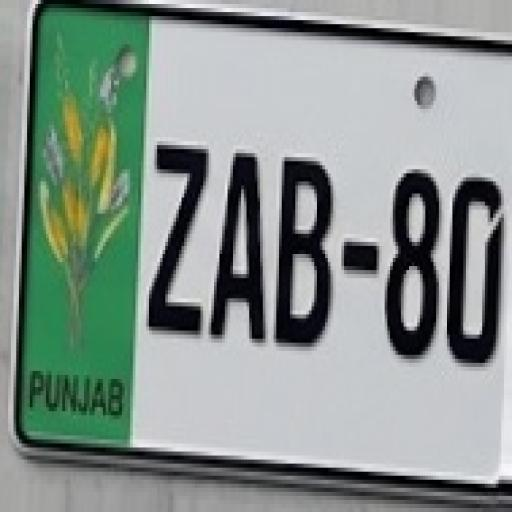0: (443, 174, 502, 379)
8: (386, 158, 438, 371)
A: (207, 132, 269, 361)
B: (271, 139, 333, 356)
Z: (151, 140, 204, 339)
